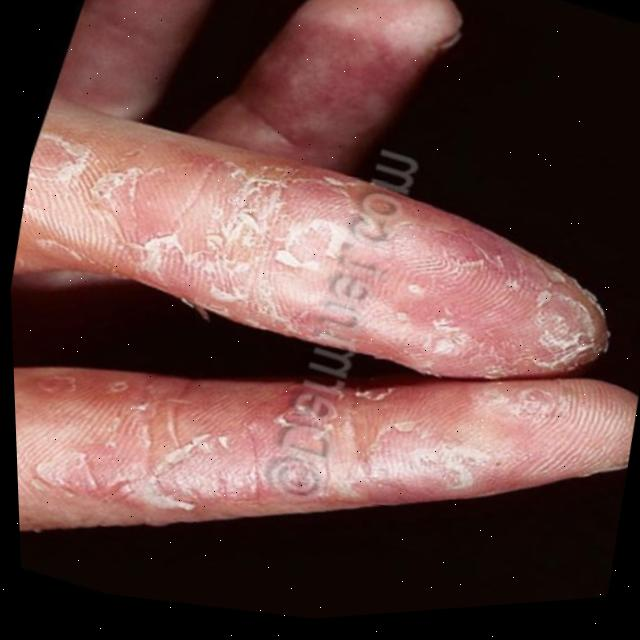Eczema: (12, 277, 624, 626), (5, 92, 625, 426)
